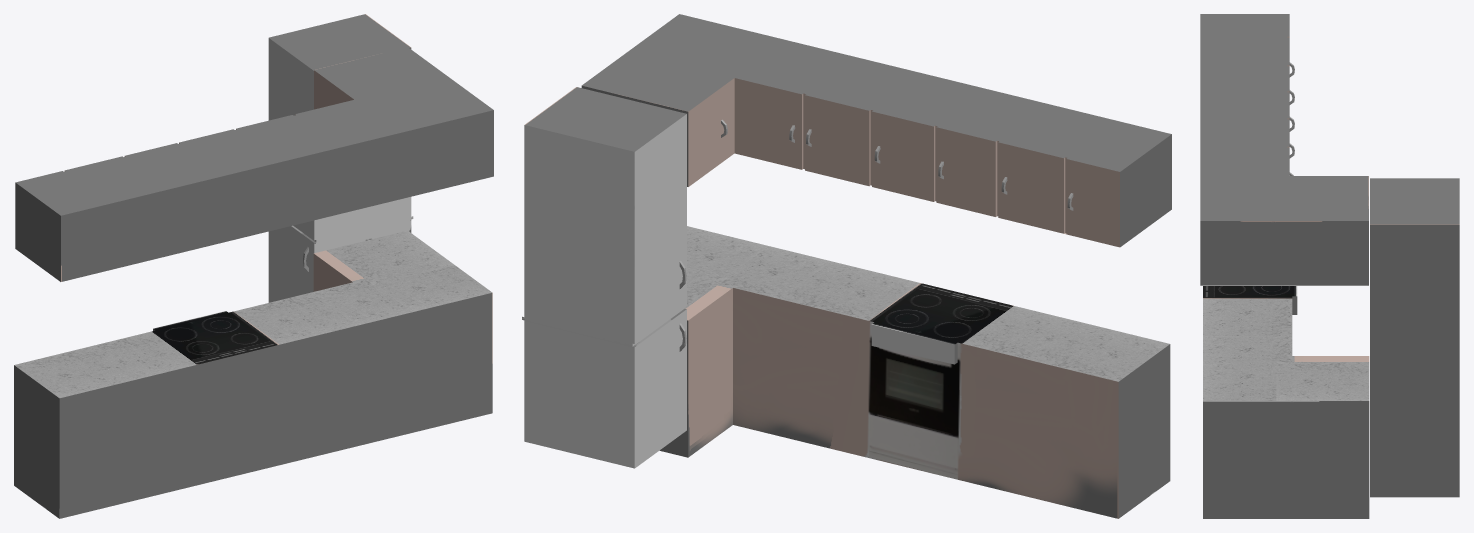
File: kitchen.fbx
3 renders of one model, left to right at view 1: azimuth 30°, elevation 25°; view 2: azimuth 150°, elevation 25°; view 3: azimuth 270°, elevation 25°, orthographic. The views are drawn at different scales.
Visible parts, largest first — view 1: kithen_geo; view 2: kithen_geo, handle_geo9; view 3: kithen_geo.
Part boxes in pixels (<box>): kithen_geo: <box>14,14,493,518</box>; kithen_geo: <box>522,14,1171,518</box>; handle_geo9: <box>679,119,1073,351</box>; kithen_geo: <box>1200,14,1459,518</box>.
Bounding box in the file's own units: 472 × 312 × 246.
